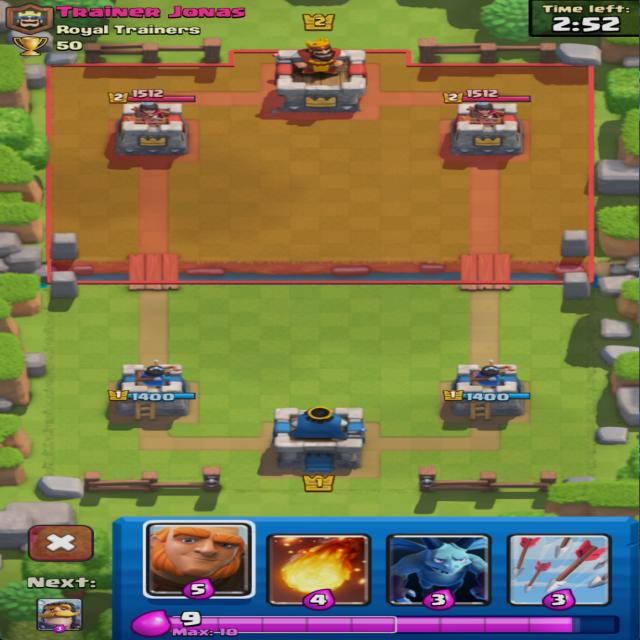8_Elixer: (181, 611, 202, 627)
Arrows_Card: (506, 533, 614, 612)
Elixer_Bar: (129, 609, 623, 637)
Fireball_Card: (267, 534, 371, 612)
Giant_In_Hand: (143, 519, 254, 611)
Knight_Next: (28, 576, 96, 632)
Minions_Card: (384, 533, 493, 612)
